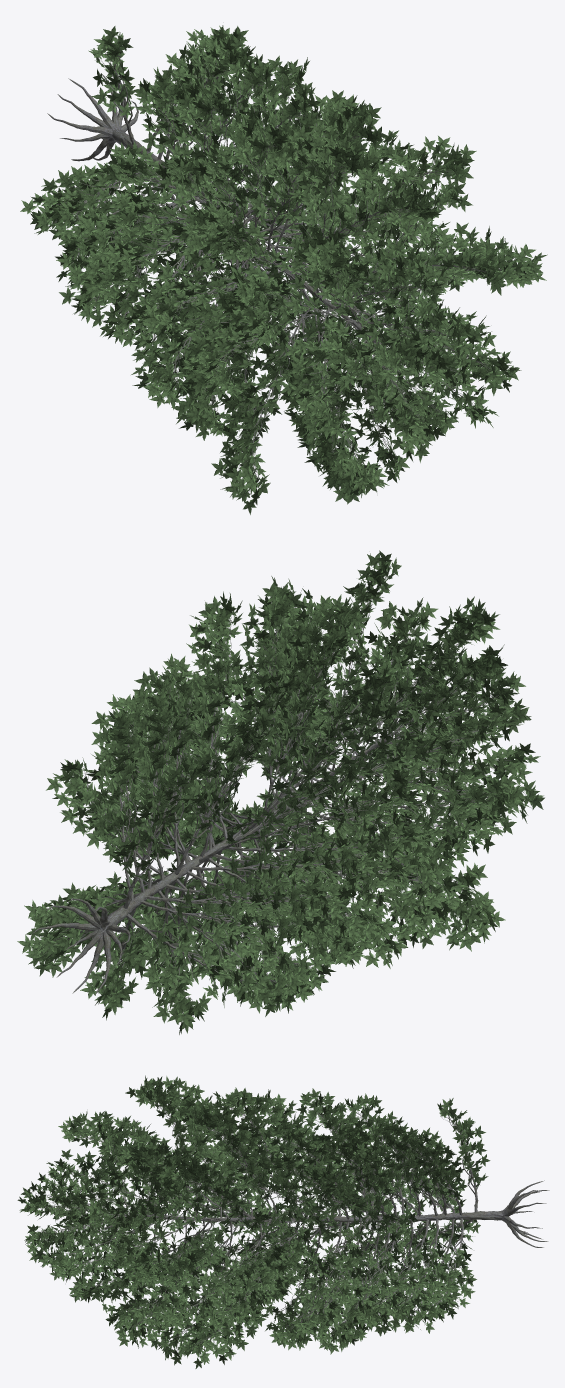
3 renders of one model, top to bottom at view 1: azimuth 30°, elevation 25°; view 2: azimuth 150°, elevation 25°; view 3: azimuth 270°, elevation 25°, orthographic. The views are drawn at different scales.
Visible parts, largest first — view 1: EA08y; view 2: EA08y; view 3: EA08y.
Boxes of the visible parts, left/top/right/bottom form: EA08y: left=20, top=25, right=547, bottom=514; EA08y: left=17, top=550, right=544, bottom=1034; EA08y: left=17, top=1075, right=549, bottom=1368.
Bounding box in the file's own units: 39.37 × 39.68 × 67.49.
Materials: 2 (2 with a texture image).
